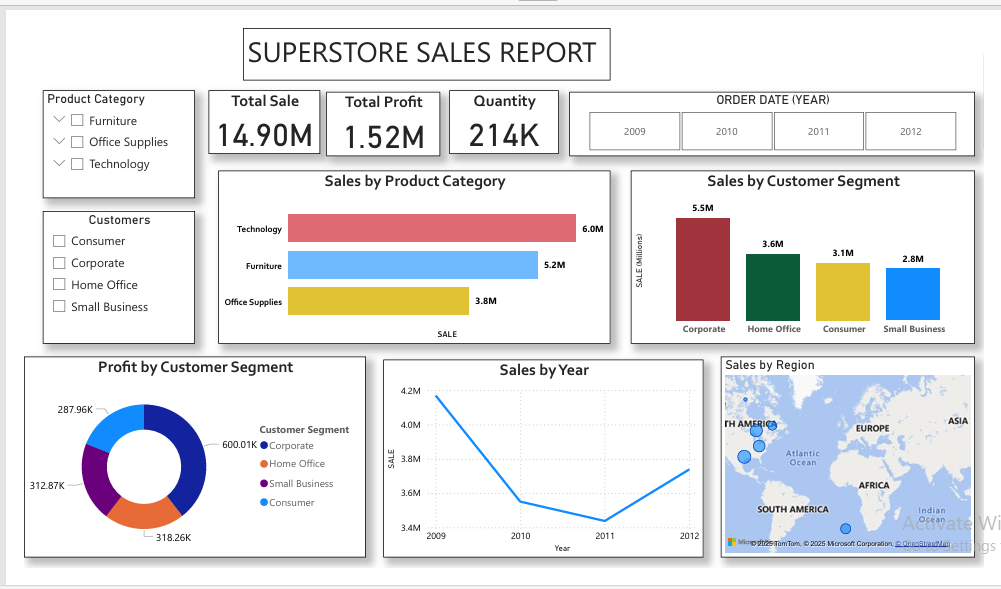

Layout of this report page (visuals, bound fields, positions):
{"tool":"powerbi","page":{"name":"Page 1","canvas":[1280,720],"ordinal":0},"visuals":[{"type":"clusteredBarChart","title":"Sales by Product Category","fields":{"Y":["Sum(Superstore Sales report.Sales)"],"Category":["Superstore Sales report.Product Category"]},"box":[258.8,189.9,523,231.2],"z":0},{"type":"columnChart","title":" Sales by Customer Segment","fields":{"Category":["Superstore Sales report.Customer Segment"],"Y":["Sum(Superstore Sales report.Sales)"]},"box":[809.3,189.9,458.3,231.2],"z":1000},{"type":"donutChart","title":"Profit by Customer Segment","fields":{"Category":["Superstore Sales report.Customer Segment"],"Y":["Sum(Superstore Sales report.Profit)"]},"box":[0,437.7,455.6,268.4],"z":2000},{"type":"lineChart","title":" Sales by Year","fields":{"Y":["Sum(Superstore Sales report.Sales)"],"Category":["Superstore Sales report.Ship Date.Variation.Date Hierarchy.Year"]},"box":[479,441.8,426.7,264.3],"z":3000},{"type":"card","title":"Total Sale","fields":{"Values":["Sum(Superstore Sales report.Sales)"]},"box":[246.4,82.6,148.6,85.3],"z":4000},{"type":"card","title":"Total Profit","fields":{"Values":["Sum(Superstore Sales report.Profit)"]},"box":[403.3,85.3,151.4,85.3],"z":5000},{"type":"card","title":"Quantity","fields":{"Values":["Sum(Superstore Sales report.Order Quantity)"]},"box":[567.1,82.6,145.9,85.3],"z":6000},{"type":"map","title":"Sales by Region","fields":{"Size":["Sum(Superstore Sales report.Sales)"],"Category":["Superstore Sales report.Region"]},"box":[929,437.7,338.6,268.4],"z":7000},{"type":"slicer","title":"ORDER DATE (YEAR)","fields":{"Values":["Superstore Sales report.Order Date.Variation.Date Hierarchy.Year"]},"box":[726.7,85.3,540.9,85.3],"z":7001},{"type":"slicer","title":"Product Category","fields":{"Values":["Superstore Sales report.Product Category","Superstore Sales report.Product Sub-Category"]},"box":[24.8,82.6,203.7,144.5],"z":7002},{"type":"slicer","title":"Customers","fields":{"Values":["Superstore Sales report.Customer Segment"]},"box":[24.8,243.6,203.7,177.5],"z":7003},{"type":"textbox","box":[291.8,0,490,70.2],"z":7004}]}

Visuals, with their boxes in screenshot pixels (x1, y1, x2, y2):
"Sales by Product Category" clusteredBarChart: bbox=[219, 170, 608, 342]
" Sales by Customer Segment" columnChart: bbox=[628, 170, 969, 342]
"Profit by Customer Segment" donutChart: bbox=[26, 354, 365, 554]
" Sales by Year" lineChart: bbox=[382, 357, 700, 554]
"Total Sale" card: bbox=[209, 90, 320, 154]
"Total Profit" card: bbox=[326, 92, 439, 156]
"Quantity" card: bbox=[448, 90, 556, 154]
"Sales by Region" map: bbox=[717, 354, 969, 554]
"ORDER DATE (YEAR)" slicer: bbox=[567, 92, 969, 156]
"Product Category" slicer: bbox=[45, 90, 196, 198]
"Customers" slicer: bbox=[45, 210, 196, 342]
textbox: bbox=[243, 29, 608, 81]
